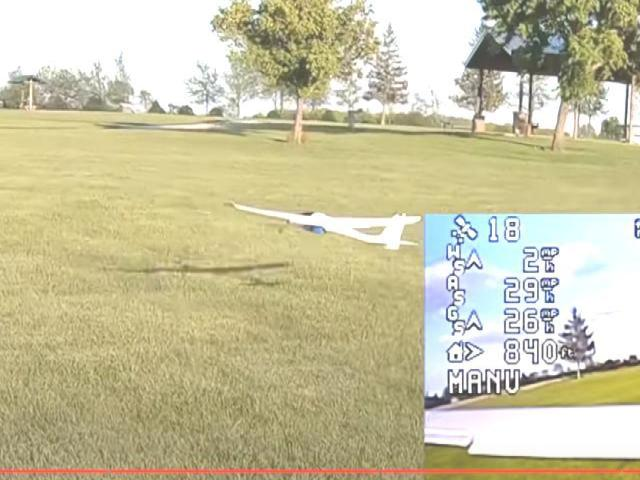iha: (226, 196, 422, 248)
